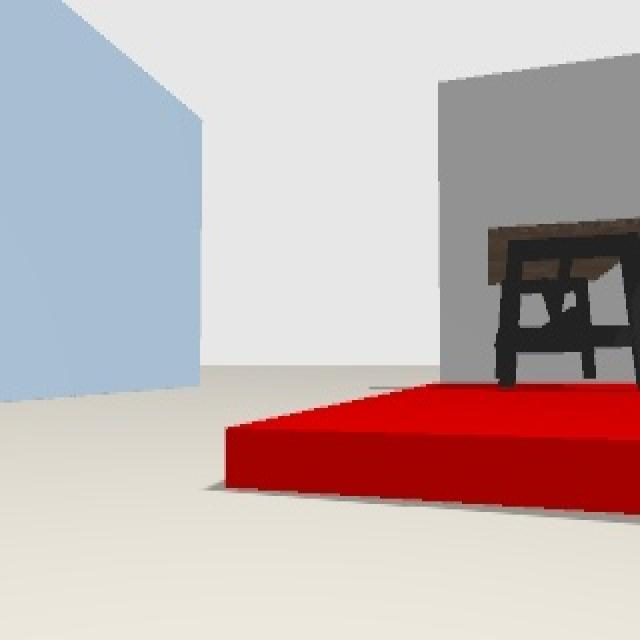dining: (487, 212, 640, 384)
